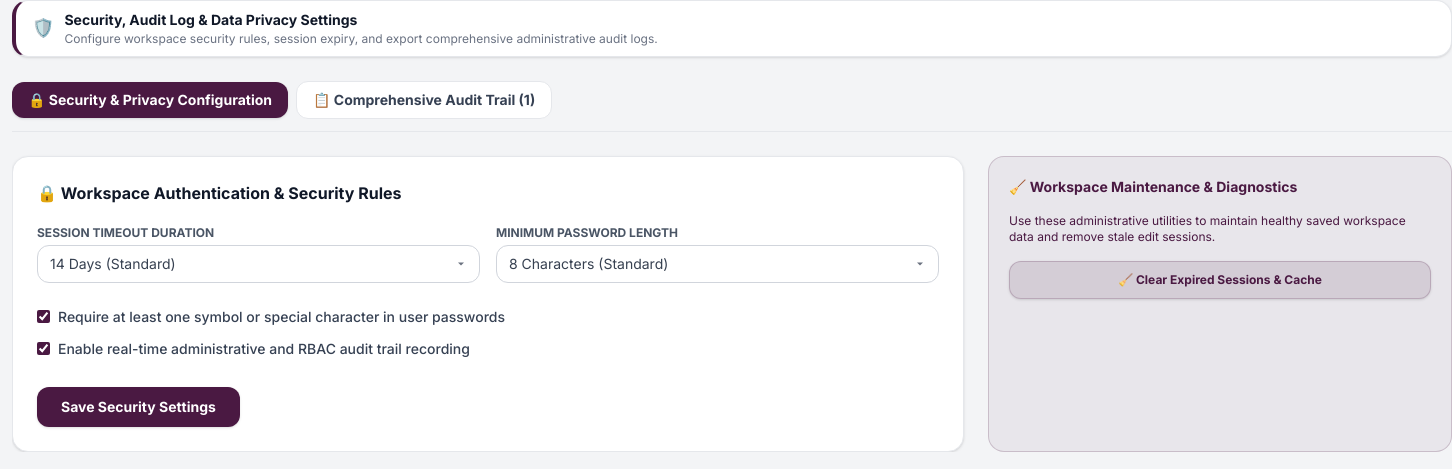
Test: SecurityAuditManagement (#147) › switches to audit trail tab, displays audit log entries, and supports CSV export
Click the button "📋 Comprehensive Audit Trail (1)": click(424, 100) [296,80,552,118]
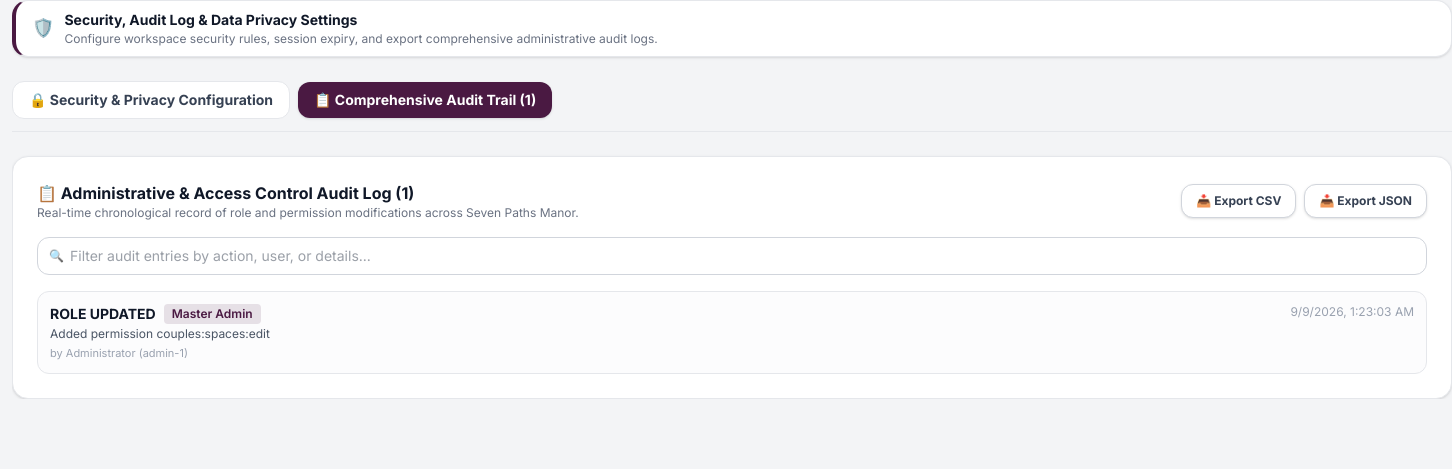
Expected: the heading "📋 Administrative & Access Control Audit Log (1)" is shown, [37,182,414,202]
Expected: the text "ROLE UPDATED" is shown, [50,304,156,324]
Expected: the text "Master Admin" is shown, [164,304,261,324]
